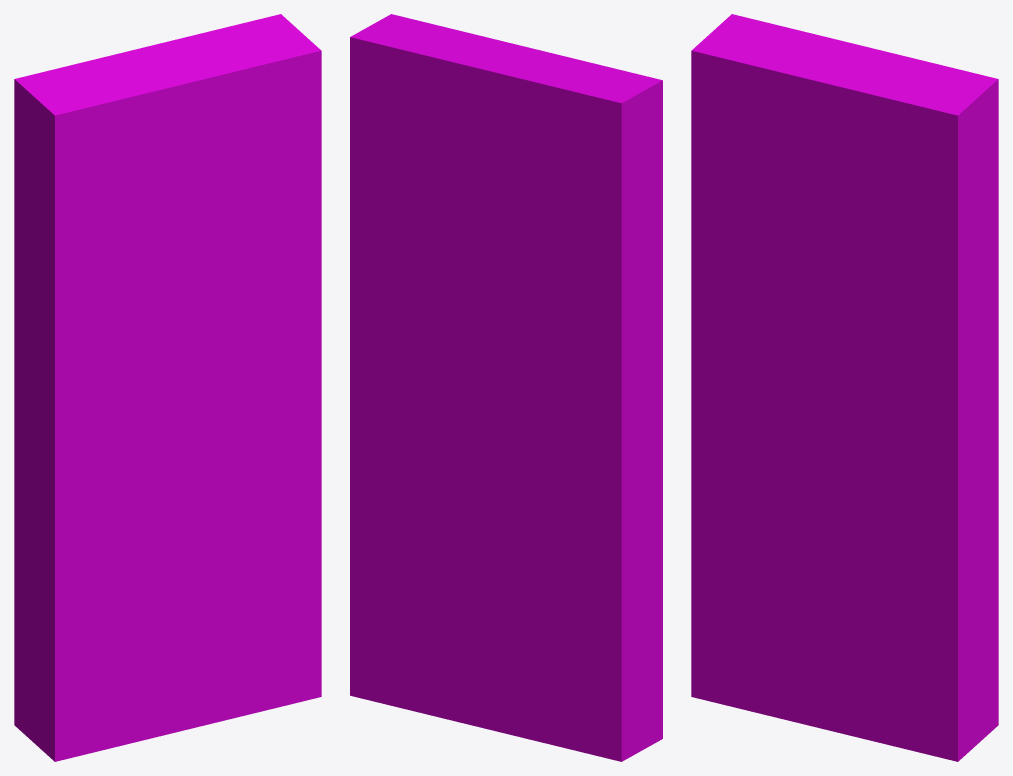
File: flipper.gltf
3 views of the same model, side by side, from view 1: azimuth 30°, elevation 25°; view 2: azimuth 150°, elevation 25°; view 3: azimuth 330°, elevation 25° (orthographic).
Parts seen in each view (by area): view 1: table_surface; view 2: table_surface; view 3: table_surface.
Boxes of the visible parts, x1=… form: table_surface: x1=14, y1=14, x2=321, y2=761; table_surface: x1=350, y1=14, x2=662, y2=761; table_surface: x1=691, y1=14, x2=998, y2=761.
Bounding box in the file's own units: 76 × 178 × 20.
